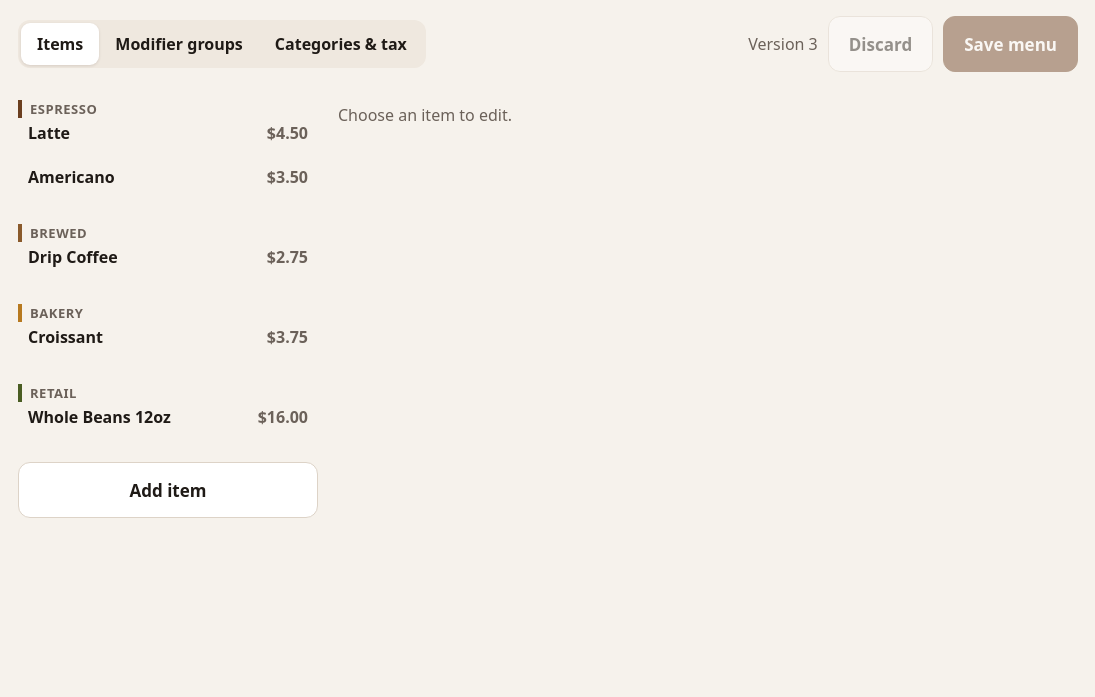
Test case: menu editor › saves a price change against the version it started from
Click the button "Latte $4.50": x=49, y=133 [18,122,318,166]
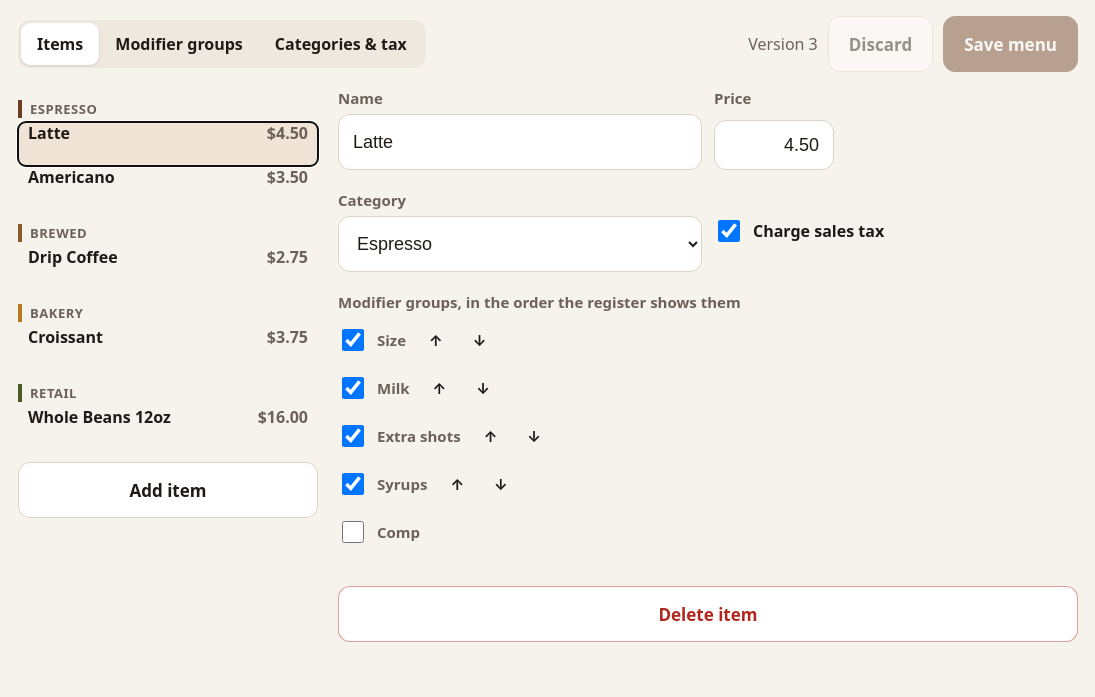
Replace the text in the field labelled "Price" with "4.75": x=774, y=145 [714,120,834,170]
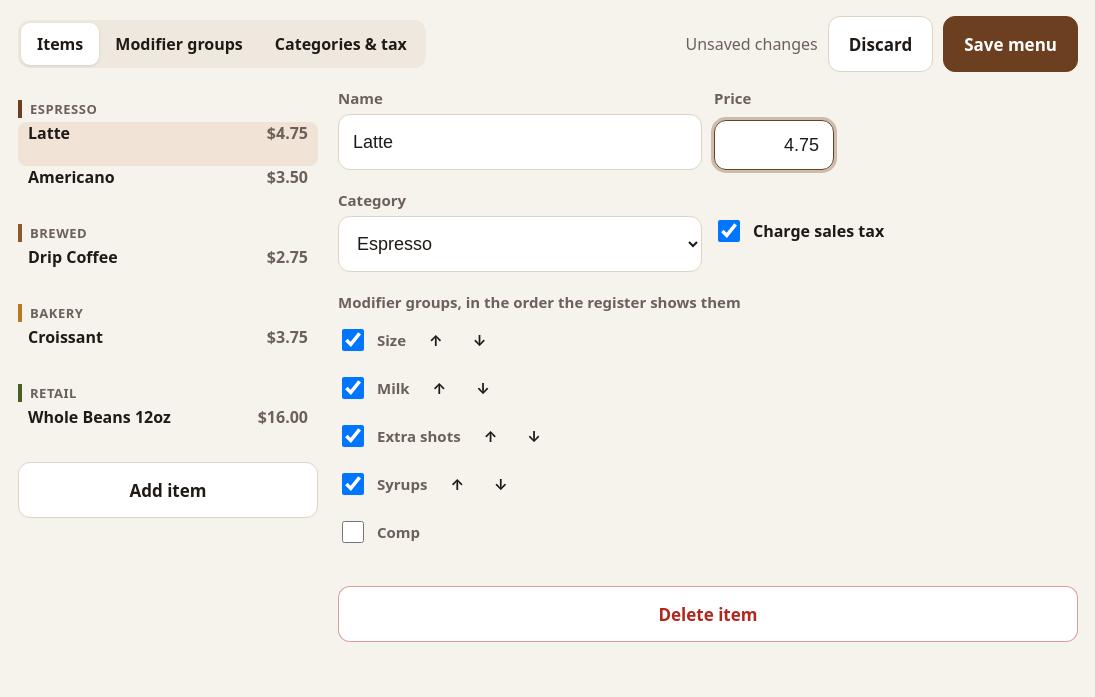
Click the button "Save menu": x=1011, y=44 [943,16,1078,72]
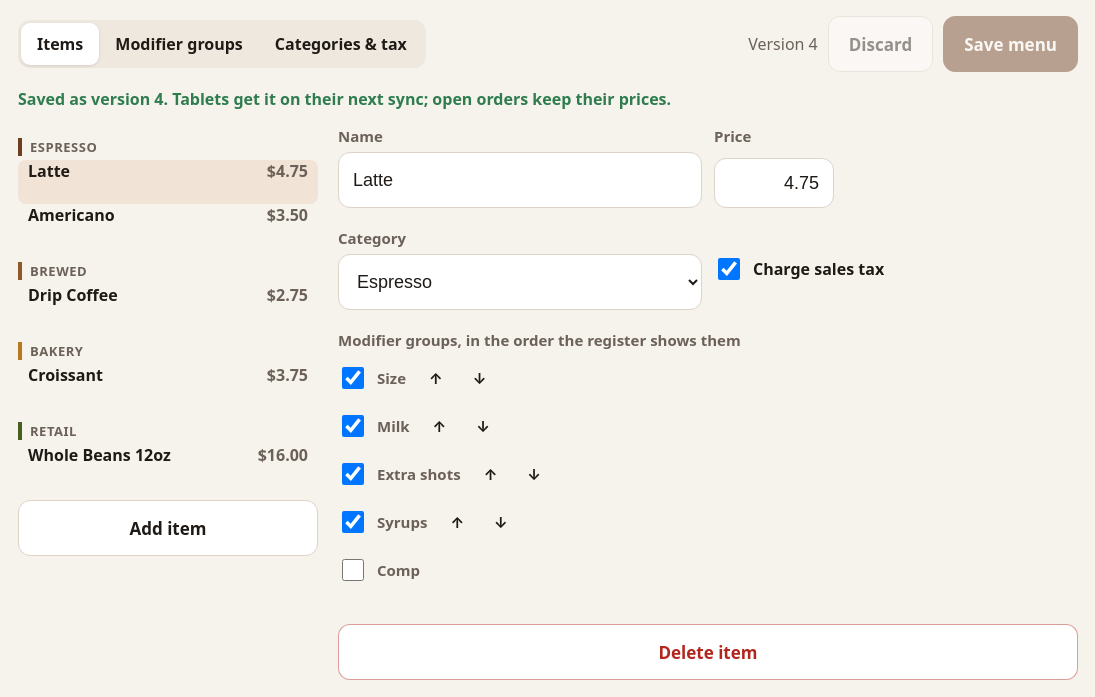
expect the text "Saved as version 4" is shown: met, box [18,88,671,110]
